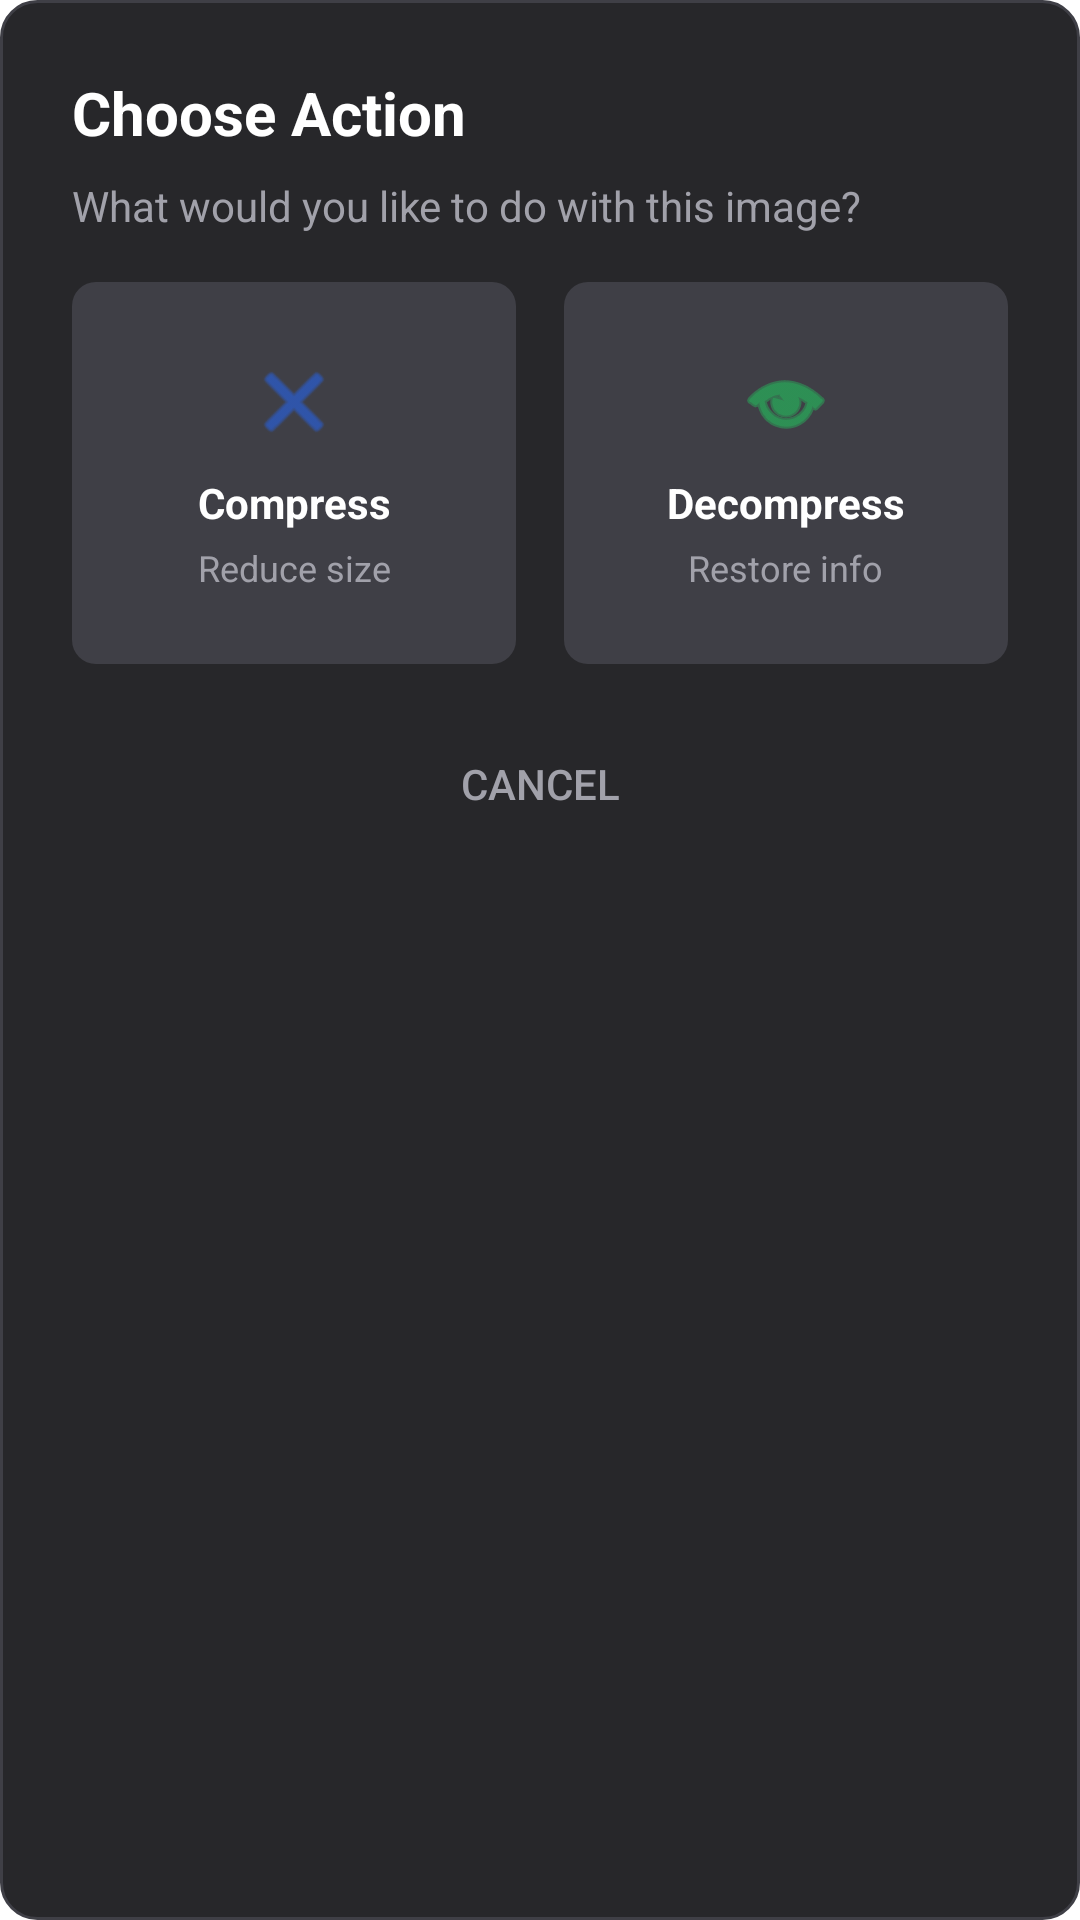

Point at icon controls on the screen. Image size 1080px×1920px, points as (x,y).
close clear cancel: (294,402)
view: (786,404)
